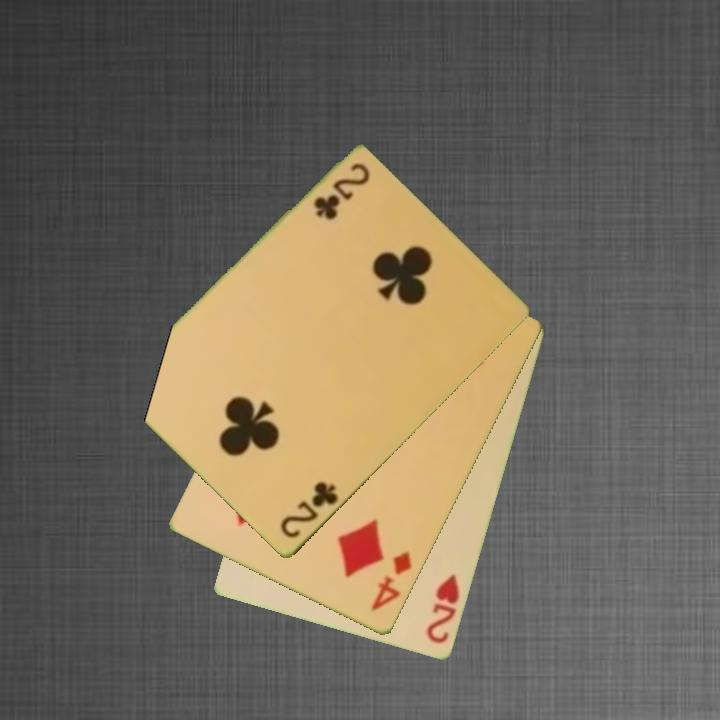2c: (276, 478, 341, 542), (310, 160, 373, 222)
2h: (423, 571, 463, 647)
4d: (368, 548, 415, 615)
